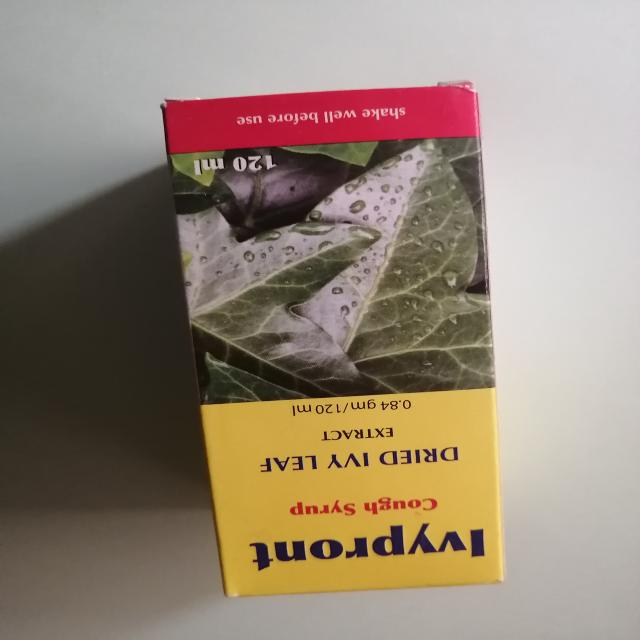Medicine: (159, 77, 508, 597)
